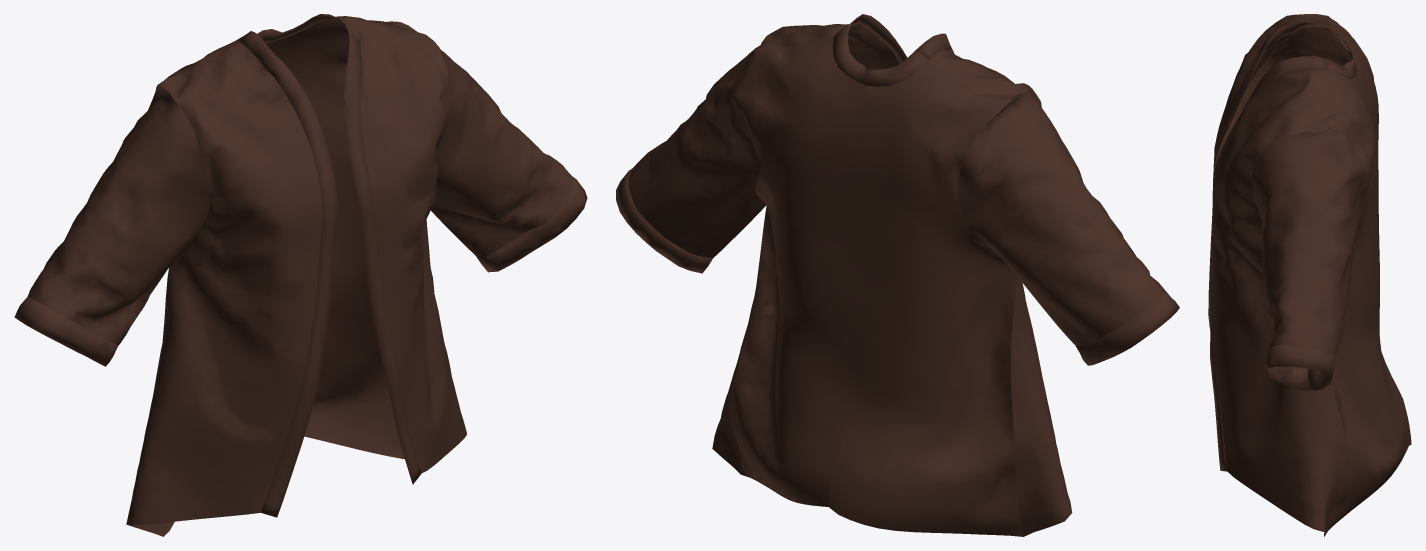
The model's file is outer.gltf.
The picture shows the model from 3 angles, left to right: view 1: azimuth 30°, elevation 25°; view 2: azimuth 150°, elevation 25°; view 3: azimuth 270°, elevation 25°; orthographic projection. The views are drawn at different scales.
Parts seen in each view (by area): view 1: Pattern2D_4569499, Pattern2D_95440.001, Pattern2D_4569499.001; view 2: Pattern2D_4569499, Pattern2D_4569499.001, Pattern2D_95440.001; view 3: Pattern2D_4569499, Pattern2D_95440.001, Pattern2D_4569499.001.
Part boxes in pixels (x1,y1,x2,y2): Pattern2D_4569499: [27, 16, 573, 536]; Pattern2D_95440.001: [236, 14, 421, 517]; Pattern2D_4569499.001: [14, 175, 587, 366]; Pattern2D_4569499: [628, 23, 1164, 536]; Pattern2D_4569499.001: [616, 169, 1179, 365]; Pattern2D_95440.001: [832, 14, 952, 86]; Pattern2D_4569499: [1211, 14, 1411, 536]; Pattern2D_95440.001: [1208, 21, 1356, 471]; Pattern2D_4569499.001: [1266, 345, 1335, 390].
Size of the model in its own units: 6.15 by 5.06 by 2.14.
